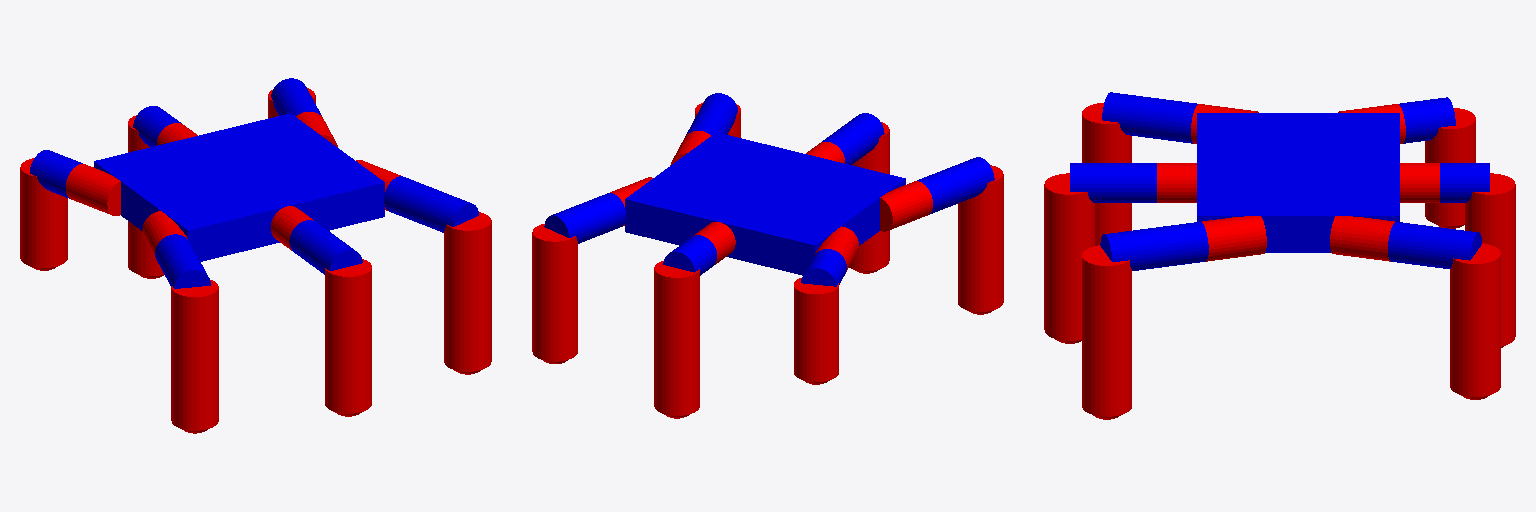
--- Render facts (derived) ---
3 views of the same robot in one strip: view 1: azimuth 30°, elevation 25°; view 2: azimuth 150°, elevation 25°; view 3: azimuth 270°, elevation 25° (orthographic).
Robot: pexod — 19 links, 18 joints (18 revolute); root link base_link; default pose: every joint at zero.
Links seen in each view (by area): view 1: base_link, leg_3_3, leg_4_3, leg_5_3, leg_0_3, leg_3_2, leg_4_2, leg_0_1, leg_5_2, leg_1_3, leg_0_2, leg_2_2 (+5 smaller); view 2: base_link, leg_1_3, leg_2_3, leg_5_3, leg_0_3, leg_2_2, leg_5_2, leg_4_3, leg_5_1, leg_4_2, leg_3_2, leg_1_2 (+3 smaller); view 3: base_link, leg_3_3, leg_2_3, leg_4_3, leg_1_3, leg_3_2, leg_5_3, leg_5_2, leg_2_2, leg_4_2, leg_0_3, leg_3_1 (+5 smaller).
Link boxes in pixels (bbox=[...]): base_link: bbox=[94, 113, 384, 261]; leg_3_3: bbox=[444, 212, 491, 374]; leg_4_3: bbox=[325, 259, 371, 416]; leg_5_3: bbox=[171, 280, 218, 433]; leg_0_3: bbox=[20, 158, 67, 270]; leg_3_2: bbox=[384, 176, 478, 232]; leg_4_2: bbox=[289, 220, 362, 274]; leg_0_1: bbox=[66, 164, 120, 215]; leg_5_2: bbox=[155, 234, 210, 288]; leg_1_3: bbox=[128, 115, 163, 278]; leg_0_2: bbox=[30, 150, 82, 198]; leg_2_2: bbox=[271, 78, 321, 116]; base_link: bbox=[625, 132, 905, 275]; leg_1_3: bbox=[654, 261, 699, 418]; leg_2_3: bbox=[532, 224, 577, 363]; leg_5_3: bbox=[958, 165, 1003, 314]; leg_0_3: bbox=[794, 278, 838, 384]; leg_2_2: bbox=[544, 193, 625, 243]; leg_5_2: bbox=[917, 157, 994, 214]; leg_4_3: bbox=[849, 122, 889, 273]; leg_5_1: bbox=[880, 181, 932, 231]; leg_4_2: bbox=[822, 113, 884, 164]; leg_3_2: bbox=[685, 93, 737, 136]; leg_1_2: bbox=[663, 235, 716, 275]; base_link: bbox=[1197, 113, 1399, 252]; leg_3_3: bbox=[1082, 245, 1131, 419]; leg_2_3: bbox=[1450, 243, 1500, 399]; leg_4_3: bbox=[1044, 173, 1094, 343]; leg_1_3: bbox=[1465, 173, 1515, 347]; leg_3_2: bbox=[1100, 222, 1208, 270]; leg_5_3: bbox=[1082, 103, 1131, 245]; leg_5_2: bbox=[1102, 92, 1197, 143]; leg_2_2: bbox=[1388, 222, 1481, 268]; leg_4_2: bbox=[1070, 163, 1156, 202]; leg_0_3: bbox=[1425, 108, 1475, 228]; leg_3_1: bbox=[1202, 216, 1266, 261].
Size in the robot's own frame: 0.3818 by 0.4652 by 0.1992 metres.
Geometry: primitives only (box / cylinder / sphere), no mesh files.

The robot description file, URDF, robot "pexod":
<?xml version="1.0" ?>
<!-- =================================================================================== -->
<!-- |    This document was autogenerated by xacro from pexod.xacro                    | -->
<!-- |    EDITING THIS FILE BY HAND IS NOT RECOMMENDED                                 | -->
<!-- =================================================================================== -->
<robot name="pexod" xmlns:xacro="http://www.ros.org/wiki/xacro">
  <!-- <xacro:include filename="$(find pexod_description)/urdf/pexod_control.xacro" /> -->
  <!-- MATERIALS -->
  <material name="Blue">
    <color rgba="0 0 1 1"/>
  </material>
  <material name="Red">
    <color rgba="1 0 0 1"/>
  </material>
  <material name="Green">
    <color rgba="0 1 0 1"/>
  </material>
  <material name="Yellow">
    <color rgba="1 1 0 1"/>
  </material>
  <material name="LightGrey">
    <color rgba="0.6 0.6 0.6 1.0"/>
  </material>
  <!-- END OF MATERIALS -->
  <!-- XACRO MACROS FOR VISUALS AND COLLISIONS -->
  <!-- END OF XACRO MACROS -->
  <!-- TORSO -->
  <link name="base_link">
    <visual>
      <origin rpy="0 0 0" xyz="0 0 0"/>
      <geometry>
        <box size="0.24 0.2 0.04"/>
      </geometry>
      <material name="Blue"/>
    </visual>
    <collision>
      <origin rpy="0 0 0" xyz="0 0 0"/>
      <geometry>
        <box size="0.24 0.2 0.04"/>
      </geometry>
    </collision>
    <inertial>
      <!-- CENTER OF MASS -->
      <origin rpy="0 0 0" xyz="0 0 0"/>
      <mass value="1.031"/>
      <!-- box inertia: 1/12*m(y^2+z^2), ... -->
      <inertia ixx="0.00357413333333" ixy="0" ixz="0" iyy="0.00508626666667" iyz="0" izz="0.00838546666667"/>
    </inertial>
  </link>
  <!-- XACRO MACRO FOR LEGS LINKS/JOINTS -->
  <!-- END OF LEG LINKS/JOINTS -->
  <joint name="body_leg_2" type="revolute">
    <parent link="base_link"/>
    <child link="leg_2_1"/>
    <limit effort="30.0" lower="-1.57079632679" upper="1.57079632679" velocity="7.0"/>
    <origin rpy="0 0 -0.3" xyz="0.11 0.04 0"/>
    <!-- <xacro:if value="${index == 5 or index == 4 or index == 3}">
                <axis xyz="0 0 1"/>
            </xacro:if>
            <xacro:if value="${index == 2 or index == 1 or index == 0}"> -->
    <axis xyz="0 0 1"/>
    <!-- </xacro:if> -->
    <dynamics damping="0.0"/>
  </joint>
  <link name="leg_2_1">
    <visual>
      <origin rpy="1.57079632679 0 0" xyz="0.01 0.03 0"/>
      <geometry>
        <cylinder length="0.06" radius="0.02"/>
      </geometry>
      <material name="Red"/>
    </visual>
    <collision>
      <origin rpy="1.57079632679 0 0" xyz="0.01 0.03 0"/>
      <geometry>
        <box size="0.02 0.02 0.06"/>
      </geometry>
    </collision>
    <inertial>
      <!-- CENTER OF MASS -->
      <origin rpy="1.57079632679 0 0" xyz="0.01 0.03 0"/>
      <mass value="0.02"/>
      <!-- box inertia: 1/12*m(y^2+z^2), ... -->
      <inertia ixx="6.66666666667e-06" ixy="0" ixz="0" iyy="6.66666666667e-06" iyz="0" izz="1.33333333333e-06"/>
    </inertial>
  </link>
  <joint name="leg_2_1_2" type="revolute">
    <parent link="leg_2_1"/>
    <child link="leg_2_2"/>
    <limit effort="30.0" lower="-0.78539816339" upper="0.78539816339" velocity="7.0"/>
    <origin rpy="0 0 0" xyz="0 0.06 0"/>
    <axis xyz="1 0 0"/>
    <dynamics damping="0.0"/>
  </joint>
  <link name="leg_2_2">
    <visual>
      <origin rpy="1.57079632679 0 0" xyz="0.01 0.0425683826759 0"/>
      <geometry>
        <cylinder length="0.0851367653518" radius="0.02"/>
      </geometry>
      <material name="Blue"/>
    </visual>
    <collision>
      <origin rpy="1.57079632679 0 0" xyz="0.01 0.0425683826759 0"/>
      <geometry>
        <box size="0.02 0.02 0.0851367653518"/>
      </geometry>
    </collision>
    <inertial>
      <!-- CENTER OF MASS -->
      <origin rpy="1.57079632679 0 0" xyz="0.01 0.0425683826759 0"/>
      <mass value="0.184"/>
      <!-- box inertia: 1/12*m(y^2+z^2), ... -->
      <inertia ixx="0.000117273455157" ixy="0" ixz="0" iyy="0.000117273455157" iyz="0" izz="1.22666666667e-05"/>
    </inertial>
  </link>
  <joint name="leg_2_2_3" type="revolute">
    <parent link="leg_2_2"/>
    <child link="leg_2_3"/>
    <limit effort="30.0" lower="-0.78539816339" upper="0.78539816339" velocity="7.0"/>
    <origin rpy="-1.57079632679 0 0" xyz="0 0.0851367653518 0"/>
    <axis xyz="-1 0 0"/>
    <dynamics damping="0.0"/>
  </joint>
  <link name="leg_2_3">
    <visual>
      <origin rpy="1.57079632679 0 0" xyz="0.0125 0.0724182618215 0"/>
      <geometry>
        <cylinder length="0.144836523643" radius="0.025"/>
      </geometry>
      <material name="Red"/>
    </visual>
    <visual>
      <origin rpy="1.57079632679 0 0" xyz="0.0125 0.132336523643 0"/>
      <geometry>
        <sphere radius="0.025"/>
      </geometry>
      <material name="Red"/>
    </visual>
    <collision>
      <origin rpy="1.57079632679 0 0" xyz="0.0125 0.0724182618215 0"/>
      <geometry>
        <box size="0.025 0.025 0.144836523643"/>
      </geometry>
    </collision>
    <collision>
      <origin rpy="1.57079632679 0 0" xyz="0.0125 0.132336523643 0"/>
      <geometry>
        <sphere radius="0.025"/>
      </geometry>
      <material name="Red"/>
    </collision>
    <inertial>
      <!-- CENTER OF MASS -->
      <origin rpy="1.57079632679 0 0" xyz="0.0125 0.0724182618215 0"/>
      <mass value="0.04"/>
      <!-- box inertia: 1/12*m(y^2+z^2), ... -->
      <inertia ixx="7.20087286033e-05" ixy="0" ixz="0" iyy="7.20087286033e-05" iyz="0" izz="4.16666666667e-06"/>
    </inertial>
  </link>
  <joint name="body_leg_3" type="revolute">
    <parent link="base_link"/>
    <child link="leg_3_1"/>
    <limit effort="30.0" lower="-1.57079632679" upper="1.57079632679" velocity="7.0"/>
    <origin rpy="0 0 0.3" xyz="0.11 -0.04 0"/>
    <!-- <xacro:if value="${index == 5 or index == 4 or index == 3}">
                <axis xyz="0 0 1"/>
            </xacro:if>
            <xacro:if value="${index == 2 or index == 1 or index == 0}"> -->
    <axis xyz="0 0 1"/>
    <!-- </xacro:if> -->
    <dynamics damping="0.0"/>
  </joint>
  <link name="leg_3_1">
    <visual>
      <origin rpy="1.57079632679 0 0" xyz="0.01 -0.03 0"/>
      <geometry>
        <cylinder length="0.06" radius="0.02"/>
      </geometry>
      <material name="Red"/>
    </visual>
    <collision>
      <origin rpy="1.57079632679 0 0" xyz="0.01 -0.03 0"/>
      <geometry>
        <box size="0.02 0.02 0.06"/>
      </geometry>
    </collision>
    <inertial>
      <!-- CENTER OF MASS -->
      <origin rpy="1.57079632679 0 0" xyz="0.01 -0.03 0"/>
      <mass value="0.02"/>
      <!-- box inertia: 1/12*m(y^2+z^2), ... -->
      <inertia ixx="6.66666666667e-06" ixy="0" ixz="0" iyy="6.66666666667e-06" iyz="0" izz="1.33333333333e-06"/>
    </inertial>
  </link>
  <joint name="leg_3_1_2" type="revolute">
    <parent link="leg_3_1"/>
    <child link="leg_3_2"/>
    <limit effort="30.0" lower="-0.78539816339" upper="0.78539816339" velocity="7.0"/>
    <origin rpy="0 0 0" xyz="0 -0.06 0"/>
    <axis xyz="-1 0 0"/>
    <dynamics damping="0.0"/>
  </joint>
  <link name="leg_3_2">
    <visual>
      <origin rpy="1.57079632679 0 0" xyz="0.01 -0.0498563107079 0"/>
      <geometry>
        <cylinder length="0.0997126214159" radius="0.02"/>
      </geometry>
      <material name="Blue"/>
    </visual>
    <collision>
      <origin rpy="1.57079632679 0 0" xyz="0.01 -0.0498563107079 0"/>
      <geometry>
        <box size="0.02 0.02 0.0997126214159"/>
      </geometry>
    </collision>
    <inertial>
      <!-- CENTER OF MASS -->
      <origin rpy="1.57079632679 0 0" xyz="0.01 -0.0498563107079 0"/>
      <mass value="0.184"/>
      <!-- box inertia: 1/12*m(y^2+z^2), ... -->
      <inertia ixx="0.000158586638668" ixy="0" ixz="0" iyy="0.000158586638668" iyz="0" izz="1.22666666667e-05"/>
    </inertial>
  </link>
  <joint name="leg_3_2_3" type="revolute">
    <parent link="leg_3_2"/>
    <child link="leg_3_3"/>
    <limit effort="30.0" lower="-0.78539816339" upper="0.78539816339" velocity="7.0"/>
    <origin rpy="1.57079632679 0 0" xyz="0 -0.0997126214159 0"/>
    <axis xyz="1 0 0"/>
    <dynamics damping="0.0"/>
  </joint>
  <link name="leg_3_3">
    <visual>
      <origin rpy="1.57079632679 0 0" xyz="0.0125 -0.0820983444425 0"/>
      <geometry>
        <cylinder length="0.164196688885" radius="0.025"/>
      </geometry>
      <material name="Red"/>
    </visual>
    <visual>
      <origin rpy="1.57079632679 0 0" xyz="0.0125 -0.151696688885 0"/>
      <geometry>
        <sphere radius="0.025"/>
      </geometry>
      <material name="Red"/>
    </visual>
    <collision>
      <origin rpy="1.57079632679 0 0" xyz="0.0125 -0.0820983444425 0"/>
      <geometry>
        <box size="0.025 0.025 0.164196688885"/>
      </geometry>
    </collision>
    <collision>
      <origin rpy="1.57079632679 0 0" xyz="0.0125 -0.151696688885 0"/>
      <geometry>
        <sphere radius="0.025"/>
      </geometry>
      <material name="Red"/>
    </collision>
    <inertial>
      <!-- CENTER OF MASS -->
      <origin rpy="1.57079632679 0 0" xyz="0.0125 -0.0820983444425 0"/>
      <mass value="0.04"/>
      <!-- box inertia: 1/12*m(y^2+z^2), ... -->
      <inertia ixx="9.1951842136e-05" ixy="0" ixz="0" iyy="9.1951842136e-05" iyz="0" izz="4.16666666667e-06"/>
    </inertial>
  </link>
  <joint name="body_leg_0" type="revolute">
    <parent link="base_link"/>
    <child link="leg_0_1"/>
    <limit effort="30.0" lower="-1.57079632679" upper="1.57079632679" velocity="7.0"/>
    <origin rpy="0 0 0.3" xyz="-0.13 0.04 0"/>
    <!-- <xacro:if value="${index == 5 or index == 4 or index == 3}">
                <axis xyz="0 0 1"/>
            </xacro:if>
            <xacro:if value="${index == 2 or index == 1 or index == 0}"> -->
    <axis xyz="0 0 1"/>
    <!-- </xacro:if> -->
    <dynamics damping="0.0"/>
  </joint>
  <link name="leg_0_1">
    <visual>
      <origin rpy="1.57079632679 0 0" xyz="0.01 0.03 0"/>
      <geometry>
        <cylinder length="0.06" radius="0.02"/>
      </geometry>
      <material name="Red"/>
    </visual>
    <collision>
      <origin rpy="1.57079632679 0 0" xyz="0.01 0.03 0"/>
      <geometry>
        <box size="0.02 0.02 0.06"/>
      </geometry>
    </collision>
    <inertial>
      <!-- CENTER OF MASS -->
      <origin rpy="1.57079632679 0 0" xyz="0.01 0.03 0"/>
      <mass value="0.02"/>
      <!-- box inertia: 1/12*m(y^2+z^2), ... -->
      <inertia ixx="6.66666666667e-06" ixy="0" ixz="0" iyy="6.66666666667e-06" iyz="0" izz="1.33333333333e-06"/>
    </inertial>
  </link>
  <joint name="leg_0_1_2" type="revolute">
    <parent link="leg_0_1"/>
    <child link="leg_0_2"/>
    <limit effort="30.0" lower="-0.78539816339" upper="0.78539816339" velocity="7.0"/>
    <origin rpy="0 0 0" xyz="0 0.06 0"/>
    <axis xyz="1 0 0"/>
    <dynamics damping="0.0"/>
  </joint>
  <link name="leg_0_2">
    <visual>
      <origin rpy="1.57079632679 0 0" xyz="0.01 0.0258337890194 0"/>
      <geometry>
        <cylinder length="0.0516675780388" radius="0.02"/>
      </geometry>
      <material name="Blue"/>
    </visual>
    <collision>
      <origin rpy="1.57079632679 0 0" xyz="0.01 0.0258337890194 0"/>
      <geometry>
        <box size="0.02 0.02 0.0516675780388"/>
      </geometry>
    </collision>
    <inertial>
      <!-- CENTER OF MASS -->
      <origin rpy="1.57079632679 0 0" xyz="0.01 0.0258337890194 0"/>
      <mass value="0.184"/>
      <!-- box inertia: 1/12*m(y^2+z^2), ... -->
      <inertia ixx="4.70662588461e-05" ixy="0" ixz="0" iyy="4.70662588461e-05" iyz="0" izz="1.22666666667e-05"/>
    </inertial>
  </link>
  <joint name="leg_0_2_3" type="revolute">
    <parent link="leg_0_2"/>
    <child link="leg_0_3"/>
    <limit effort="30.0" lower="-0.78539816339" upper="0.78539816339" velocity="7.0"/>
    <origin rpy="-1.57079632679 0 0" xyz="0 0.0516675780388 0"/>
    <axis xyz="-1 0 0"/>
    <dynamics damping="0.0"/>
  </joint>
  <link name="leg_0_3">
    <visual>
      <origin rpy="1.57079632679 0 0" xyz="0.0125 0.0529132368895 0"/>
      <geometry>
        <cylinder length="0.105826473779" radius="0.025"/>
      </geometry>
      <material name="Red"/>
    </visual>
    <visual>
      <origin rpy="1.57079632679 0 0" xyz="0.0125 0.093326473779 0"/>
      <geometry>
        <sphere radius="0.025"/>
      </geometry>
      <material name="Red"/>
    </visual>
    <collision>
      <origin rpy="1.57079632679 0 0" xyz="0.0125 0.0529132368895 0"/>
      <geometry>
        <box size="0.025 0.025 0.105826473779"/>
      </geometry>
    </collision>
    <collision>
      <origin rpy="1.57079632679 0 0" xyz="0.0125 0.093326473779 0"/>
      <geometry>
        <sphere radius="0.025"/>
      </geometry>
      <material name="Red"/>
    </collision>
    <inertial>
      <!-- CENTER OF MASS -->
      <origin rpy="1.57079632679 0 0" xyz="0.0125 0.0529132368895 0"/>
      <mass value="0.04"/>
      <!-- box inertia: 1/12*m(y^2+z^2), ... -->
      <inertia ixx="3.94141418417e-05" ixy="0" ixz="0" iyy="3.94141418417e-05" iyz="0" izz="4.16666666667e-06"/>
    </inertial>
  </link>
  <joint name="body_leg_5" type="revolute">
    <parent link="base_link"/>
    <child link="leg_5_1"/>
    <limit effort="30.0" lower="-1.57079632679" upper="1.57079632679" velocity="7.0"/>
    <origin rpy="0 0 -0.3" xyz="-0.13 -0.04 0"/>
    <!-- <xacro:if value="${index == 5 or index == 4 or index == 3}">
                <axis xyz="0 0 1"/>
            </xacro:if>
            <xacro:if value="${index == 2 or index == 1 or index == 0}"> -->
    <axis xyz="0 0 1"/>
    <!-- </xacro:if> -->
    <dynamics damping="0.0"/>
  </joint>
  <link name="leg_5_1">
    <visual>
      <origin rpy="1.57079632679 0 0" xyz="0.01 -0.03 0"/>
      <geometry>
        <cylinder length="0.06" radius="0.02"/>
      </geometry>
      <material name="Red"/>
    </visual>
    <collision>
      <origin rpy="1.57079632679 0 0" xyz="0.01 -0.03 0"/>
      <geometry>
        <box size="0.02 0.02 0.06"/>
      </geometry>
    </collision>
    <inertial>
      <!-- CENTER OF MASS -->
      <origin rpy="1.57079632679 0 0" xyz="0.01 -0.03 0"/>
      <mass value="0.02"/>
      <!-- box inertia: 1/12*m(y^2+z^2), ... -->
      <inertia ixx="6.66666666667e-06" ixy="0" ixz="0" iyy="6.66666666667e-06" iyz="0" izz="1.33333333333e-06"/>
    </inertial>
  </link>
  <joint name="leg_5_1_2" type="revolute">
    <parent link="leg_5_1"/>
    <child link="leg_5_2"/>
    <limit effort="30.0" lower="-0.78539816339" upper="0.78539816339" velocity="7.0"/>
    <origin rpy="0 0 0" xyz="0 -0.06 0"/>
    <axis xyz="-1 0 0"/>
    <dynamics damping="0.0"/>
  </joint>
  <link name="leg_5_2">
    <visual>
      <origin rpy="1.57079632679 0 0" xyz="0.01 -0.0459106148465 0"/>
      <geometry>
        <cylinder length="0.0918212296931" radius="0.02"/>
      </geometry>
      <material name="Blue"/>
    </visual>
    <collision>
      <origin rpy="1.57079632679 0 0" xyz="0.01 -0.0459106148465 0"/>
      <geometry>
        <box size="0.02 0.02 0.0918212296931"/>
      </geometry>
    </collision>
    <inertial>
      <!-- CENTER OF MASS -->
      <origin rpy="1.57079632679 0 0" xyz="0.01 -0.0459106148465 0"/>
      <mass value="0.184"/>
      <!-- box inertia: 1/12*m(y^2+z^2), ... -->
      <inertia ixx="0.000135410786076" ixy="0" ixz="0" iyy="0.000135410786076" iyz="0" izz="1.22666666667e-05"/>
    </inertial>
  </link>
  <joint name="leg_5_2_3" type="revolute">
    <parent link="leg_5_2"/>
    <child link="leg_5_3"/>
    <limit effort="30.0" lower="-0.78539816339" upper="0.78539816339" velocity="7.0"/>
    <origin rpy="1.57079632679 0 0" xyz="0 -0.0918212296931 0"/>
    <axis xyz="1 0 0"/>
    <dynamics damping="0.0"/>
  </joint>
  <link name="leg_5_3">
    <visual>
      <origin rpy="1.57079632679 0 0" xyz="0.0125 -0.0777058546945 0"/>
      <geometry>
        <cylinder length="0.155411709389" radius="0.025"/>
      </geometry>
      <material name="Red"/>
    </visual>
    <visual>
      <origin rpy="1.57079632679 0 0" xyz="0.0125 -0.142911709389 0"/>
      <geometry>
        <sphere radius="0.025"/>
      </geometry>
      <material name="Red"/>
    </visual>
    <collision>
      <origin rpy="1.57079632679 0 0" xyz="0.0125 -0.0777058546945 0"/>
      <geometry>
        <box size="0.025 0.025 0.155411709389"/>
      </geometry>
    </collision>
    <collision>
      <origin rpy="1.57079632679 0 0" xyz="0.0125 -0.142911709389 0"/>
      <geometry>
        <sphere radius="0.025"/>
      </geometry>
      <material name="Red"/>
    </collision>
    <inertial>
      <!-- CENTER OF MASS -->
      <origin rpy="1.57079632679 0 0" xyz="0.0125 -0.0777058546945 0"/>
      <mass value="0.04"/>
      <!-- box inertia: 1/12*m(y^2+z^2), ... -->
      <inertia ixx="8.25926647174e-05" ixy="0" ixz="0" iyy="8.25926647174e-05" iyz="0" izz="4.16666666667e-06"/>
    </inertial>
  </link>
  <joint name="body_leg_1" type="revolute">
    <parent link="base_link"/>
    <child link="leg_1_1"/>
    <limit effort="30.0" lower="-1.57079632679" upper="1.57079632679" velocity="7.0"/>
    <origin rpy="0 0 0" xyz="-0.01 0.08 0"/>
    <!-- <xacro:if value="${index == 5 or index == 4 or index == 3}">
                <axis xyz="0 0 1"/>
            </xacro:if>
            <xacro:if value="${index == 2 or index == 1 or index == 0}"> -->
    <axis xyz="0 0 1"/>
    <!-- </xacro:if> -->
    <dynamics damping="0.0"/>
  </joint>
  <link name="leg_1_1">
    <visual>
      <origin rpy="1.57079632679 0 0" xyz="0.01 0.03 0"/>
      <geometry>
        <cylinder length="0.06" radius="0.02"/>
      </geometry>
      <material name="Red"/>
    </visual>
    <collision>
      <origin rpy="1.57079632679 0 0" xyz="0.01 0.03 0"/>
      <geometry>
        <box size="0.02 0.02 0.06"/>
      </geometry>
    </collision>
    <inertial>
      <!-- CENTER OF MASS -->
      <origin rpy="1.57079632679 0 0" xyz="0.01 0.03 0"/>
      <mass value="0.02"/>
      <!-- box inertia: 1/12*m(y^2+z^2), ... -->
      <inertia ixx="6.66666666667e-06" ixy="0" ixz="0" iyy="6.66666666667e-06" iyz="0" izz="1.33333333333e-06"/>
    </inertial>
  </link>
  <joint name="leg_1_1_2" type="revolute">
    <parent link="leg_1_1"/>
    <child link="leg_1_2"/>
    <limit effort="30.0" lower="-0.78539816339" upper="0.78539816339" velocity="7.0"/>
    <origin rpy="0 0 0" xyz="0 0.06 0"/>
    <axis xyz="1 0 0"/>
    <dynamics damping="0.0"/>
  </joint>
  <link name="leg_1_2">
    <visual>
      <origin rpy="1.57079632679 0 0" xyz="0.01 0.0247354277585 0"/>
      <geometry>
        <cylinder length="0.049470855517" radius="0.02"/>
      </geometry>
      <material name="Blue"/>
    </visual>
    <collision>
      <origin rpy="1.57079632679 0 0" xyz="0.01 0.0247354277585 0"/>
      <geometry>
        <box size="0.02 0.02 0.049470855517"/>
      </geometry>
    </collision>
    <inertial>
      <!-- CENTER OF MASS -->
      <origin rpy="1.57079632679 0 0" xyz="0.01 0.0247354277585 0"/>
      <mass value="0.184"/>
      <!-- box inertia: 1/12*m(y^2+z^2), ... -->
      <inertia ixx="4.36596050323e-05" ixy="0" ixz="0" iyy="4.36596050323e-05" iyz="0" izz="1.22666666667e-05"/>
    </inertial>
  </link>
  <joint name="leg_1_2_3" type="revolute">
    <parent link="leg_1_2"/>
    <child link="leg_1_3"/>
    <limit effort="30.0" lower="-0.78539816339" upper="0.78539816339" velocity="7.0"/>
    <origin rpy="-1.57079632679 0 0" xyz="0 0.049470855517 0"/>
    <axis xyz="-1 0 0"/>
    <dynamics damping="0.0"/>
  </joint>
  <link name="leg_1_3">
    <visual>
      <origin rpy="1.57079632679 0 0" xyz="0.0125 0.0833611885215 0"/>
      <geometry>
        <cylinder length="0.166722377043" radius="0.025"/>
      </geometry>
      <material name="Red"/>
    </visual>
    <visual>
      <origin rpy="1.57079632679 0 0" xyz="0.0125 0.154222377043 0"/>
      <geometry>
        <sphere radius="0.025"/>
      </geometry>
      <material name="Red"/>
    </visual>
    <collision>
      <origin rpy="1.57079632679 0 0" xyz="0.0125 0.0833611885215 0"/>
      <geometry>
        <box size="0.025 0.025 0.166722377043"/>
      </geometry>
    </collision>
    <collision>
      <origin rpy="1.57079632679 0 0" xyz="0.0125 0.154222377043 0"/>
      <geometry>
        <sphere radius="0.025"/>
      </geometry>
      <material name="Red"/>
    </collision>
    <inertial>
      <!-- CENTER OF MASS -->
      <origin rpy="1.57079632679 0 0" xyz="0.0125 0.0833611885215 0"/>
      <mass value="0.04"/>
      <!-- box inertia: 1/12*m(y^2+z^2), ... -->
      <inertia ixx="9.47378366896e-05" ixy="0" ixz="0" iyy="9.47378366896e-05" iyz="0" izz="4.16666666667e-06"/>
    </inertial>
  </link>
  <joint name="body_leg_4" type="revolute">
    <parent link="base_link"/>
    <child link="leg_4_1"/>
    <limit effort="30.0" lower="-1.57079632679" upper="1.57079632679" velocity="7.0"/>
    <origin rpy="0 0 0" xyz="-0.01 -0.08 0"/>
    <!-- <xacro:if value="${index == 5 or index == 4 or index == 3}">
                <axis xyz="0 0 1"/>
            </xacro:if>
            <xacro:if value="${index == 2 or index == 1 or index == 0}"> -->
    <axis xyz="0 0 1"/>
    <!-- </xacro:if> -->
    <dynamics damping="0.0"/>
  </joint>
  <link name="leg_4_1">
    <visual>
      <origin rpy="1.57079632679 0 0" xyz="0.01 -0.03 0"/>
      <geometry>
        <cylinder length="0.06" radius="0.02"/>
      </geometry>
      <material name="Red"/>
    </visual>
    <collision>
      <origin rpy="1.57079632679 0 0" xyz="0.01 -0.03 0"/>
      <geometry>
        <box size="0.02 0.02 0.06"/>
      </geometry>
    </collision>
    <inertial>
      <!-- CENTER OF MASS -->
      <origin rpy="1.57079632679 0 0" xyz="0.01 -0.03 0"/>
      <mass value="0.02"/>
      <!-- box inertia: 1/12*m(y^2+z^2), ... -->
      <inertia ixx="6.66666666667e-06" ixy="0" ixz="0" iyy="6.66666666667e-06" iyz="0" izz="1.33333333333e-06"/>
    </inertial>
  </link>
  <joint name="leg_4_1_2" type="revolute">
    <parent link="leg_4_1"/>
    <child link="leg_4_2"/>
    <limit effort="30.0" lower="-0.78539816339" upper="0.78539816339" velocity="7.0"/>
    <origin rpy="0 0 0" xyz="0 -0.06 0"/>
    <axis xyz="-1 0 0"/>
    <dynamics damping="0.0"/>
  </joint>
  <link name="leg_4_2">
    <visual>
      <origin rpy="1.57079632679 0 0" xyz="0.01 -0.0428861710111 0"/>
      <geometry>
        <cylinder length="0.0857723420222" radius="0.02"/>
      </geometry>
      <material name="Blue"/>
    </visual>
    <collision>
      <origin rpy="1.57079632679 0 0" xyz="0.01 -0.0428861710111 0"/>
      <geometry>
        <box size="0.02 0.02 0.0857723420222"/>
      </geometry>
    </collision>
    <inertial>
      <!-- CENTER OF MASS -->
      <origin rpy="1.57079632679 0 0" xyz="0.01 -0.0428861710111 0"/>
      <mass value="0.184"/>
      <!-- box inertia: 1/12*m(y^2+z^2), ... -->
      <inertia ixx="0.000118939051392" ixy="0" ixz="0" iyy="0.000118939051392" iyz="0" izz="1.22666666667e-05"/>
    </inertial>
  </link>
  <joint name="leg_4_2_3" type="revolute">
    <parent link="leg_4_2"/>
    <child link="leg_4_3"/>
    <limit effort="30.0" lower="-0.78539816339" upper="0.78539816339" velocity="7.0"/>
    <origin rpy="1.57079632679 0 0" xyz="0 -0.0857723420222 0"/>
    <axis xyz="1 0 0"/>
    <dynamics damping="0.0"/>
  </joint>
  <link name="leg_4_3">
    <visual>
      <origin rpy="1.57079632679 0 0" xyz="0.0125 -0.07968691233 0"/>
      <geometry>
        <cylinder length="0.15937382466" radius="0.025"/>
      </geometry>
      <material name="Red"/>
    </visual>
    <visual>
      <origin rpy="1.57079632679 0 0" xyz="0.0125 -0.14687382466 0"/>
      <geometry>
        <sphere radius="0.025"/>
      </geometry>
      <material name="Red"/>
    </visual>
    <collision>
      <origin rpy="1.57079632679 0 0" xyz="0.0125 -0.07968691233 0"/>
      <geometry>
        <box size="0.025 0.025 0.15937382466"/>
      </geometry>
    </collision>
    <collision>
      <origin rpy="1.57079632679 0 0" xyz="0.0125 -0.14687382466 0"/>
      <geometry>
        <sphere radius="0.025"/>
      </geometry>
      <material name="Red"/>
    </collision>
    <inertial>
      <!-- CENTER OF MASS -->
      <origin rpy="1.57079632679 0 0" xyz="0.0125 -0.07968691233 0"/>
      <mass value="0.04"/>
      <!-- box inertia: 1/12*m(y^2+z^2), ... -->
      <inertia ixx="8.67500532892e-05" ixy="0" ixz="0" iyy="8.67500532892e-05" iyz="0" izz="4.16666666667e-06"/>
    </inertial>
  </link>
  <!-- END OF LEG LINKS/JOINTS -->
</robot>
